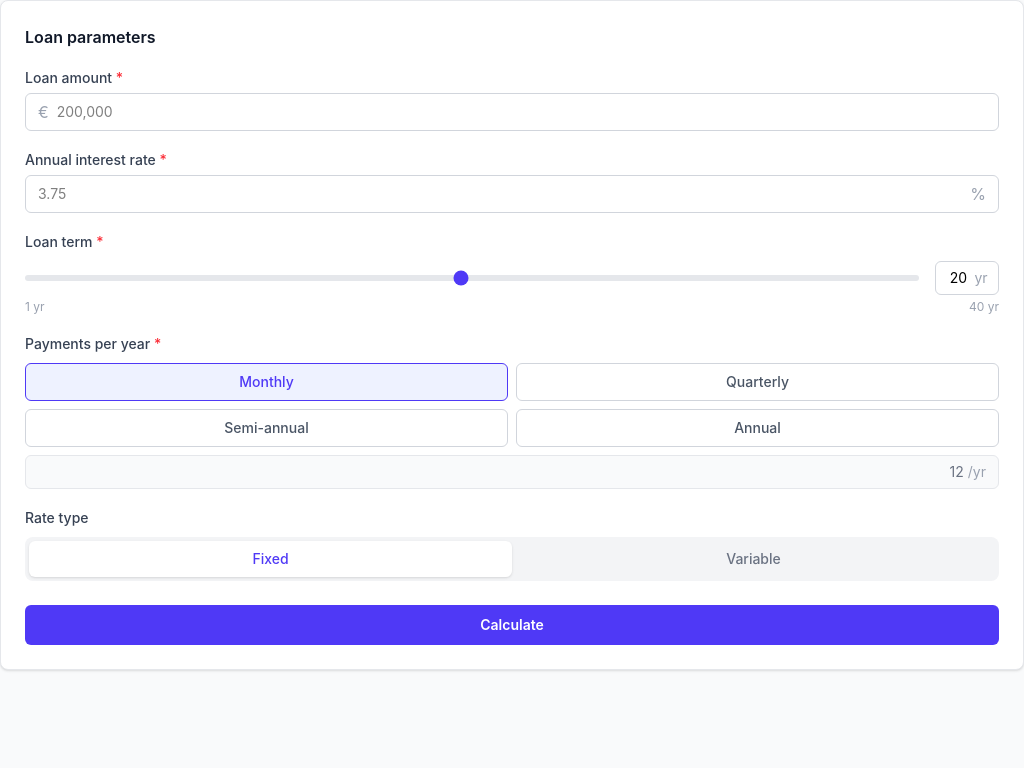
LoanForm loan term clamping › clamps a value above the max down to 40
Replace the text in the number field labelled "Loan term * yr" with "999" at (958,278), box [946,268,970,288]
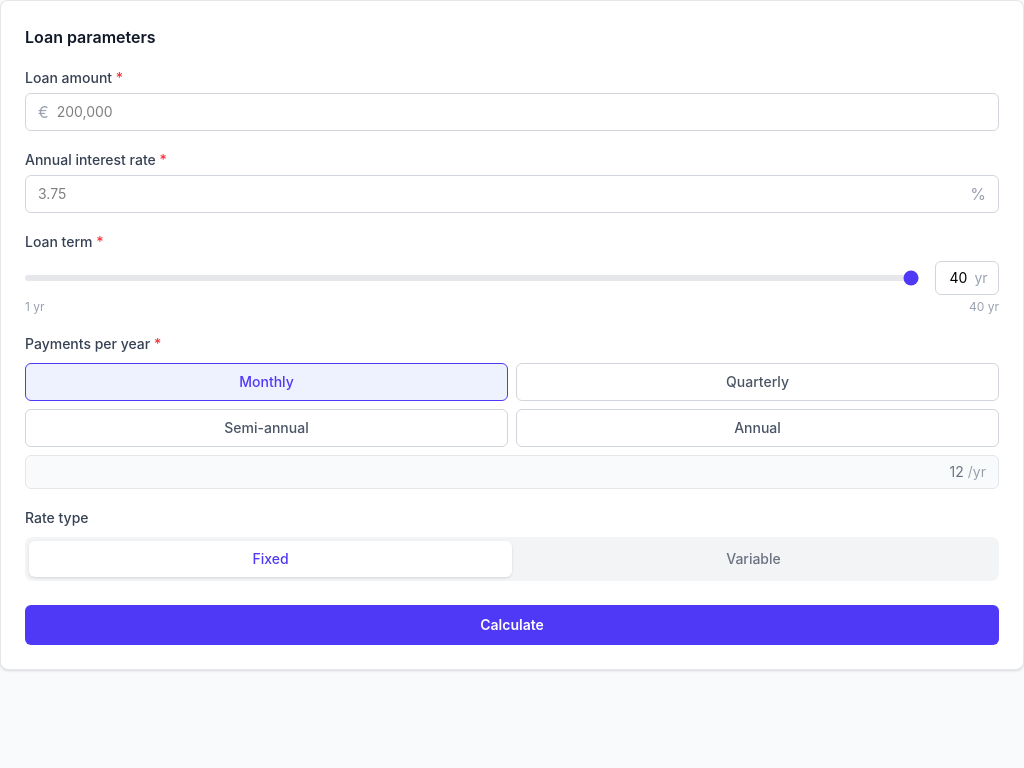
expect the slider holds "40": met, box [25,275,919,281]
